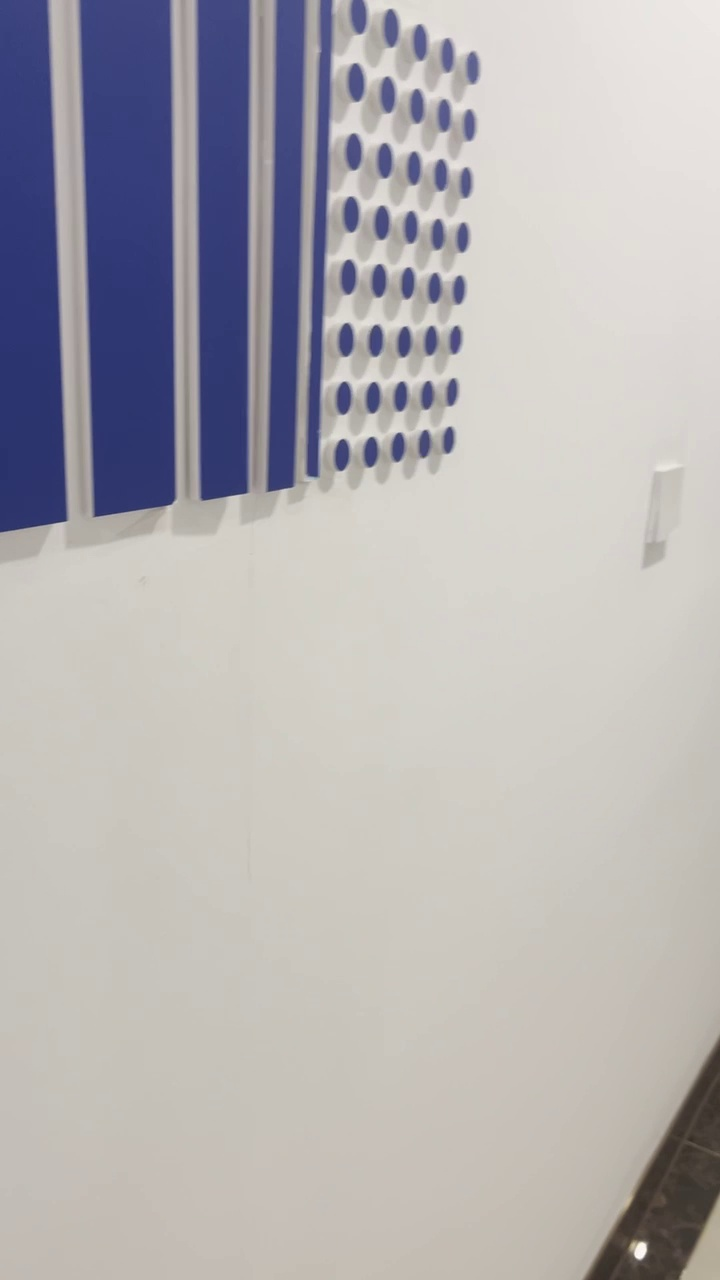button: (646, 462, 687, 542)
